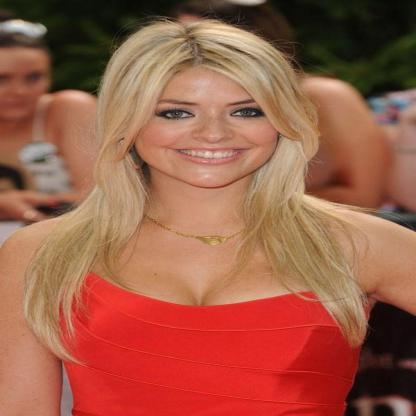long-hair: (80, 189, 326, 238)
